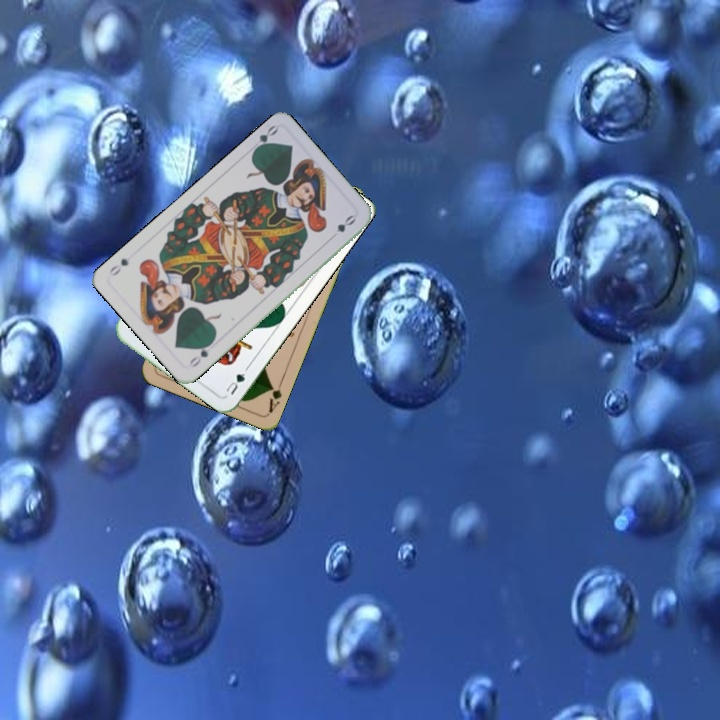GA: (264, 376, 285, 416)
GO: (248, 121, 280, 156), (185, 337, 216, 370)
GU: (222, 363, 251, 398)
